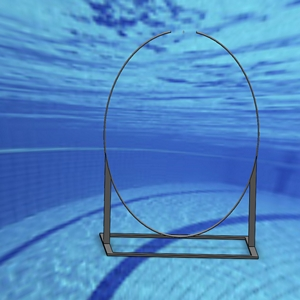circle: (100, 29, 261, 260)
